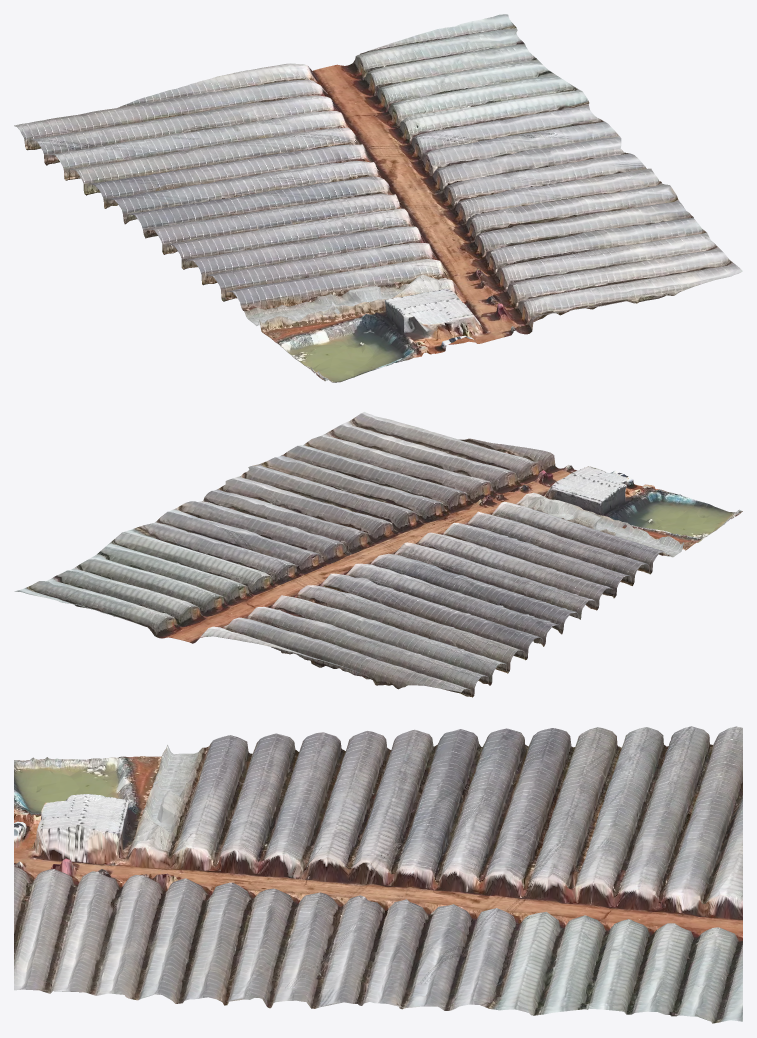
File: BlockBB_L19_67.glb
3 renders of one model, top to bottom at view 1: azimuth 30°, elevation 25°; view 2: azimuth 150°, elevation 25°; view 3: azimuth 270°, elevation 25°, orthographic. The views are drawn at different scales.
Parts seen in each view (by area): view 1: rtc; view 2: rtc; view 3: rtc.
Boxes of the visible parts, x1=… form: rtc: x1=14, y1=14, x2=742, y2=382; rtc: x1=14, y1=412, x2=742, y2=697; rtc: x1=14, y1=726, x2=742, y2=1023.
Bounding box in the file's own units: 78.57 × 6.3 × 85.63.
Materials: 6 (6 with a texture image).
